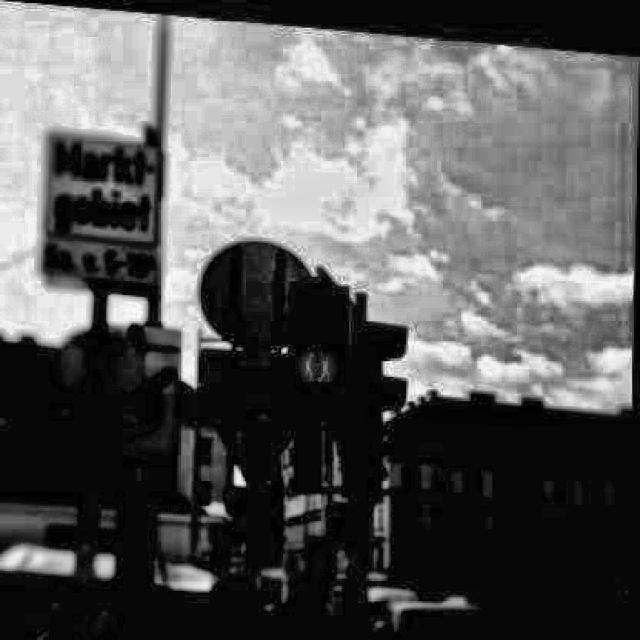semaforo pedestre: (235, 229, 388, 436)
